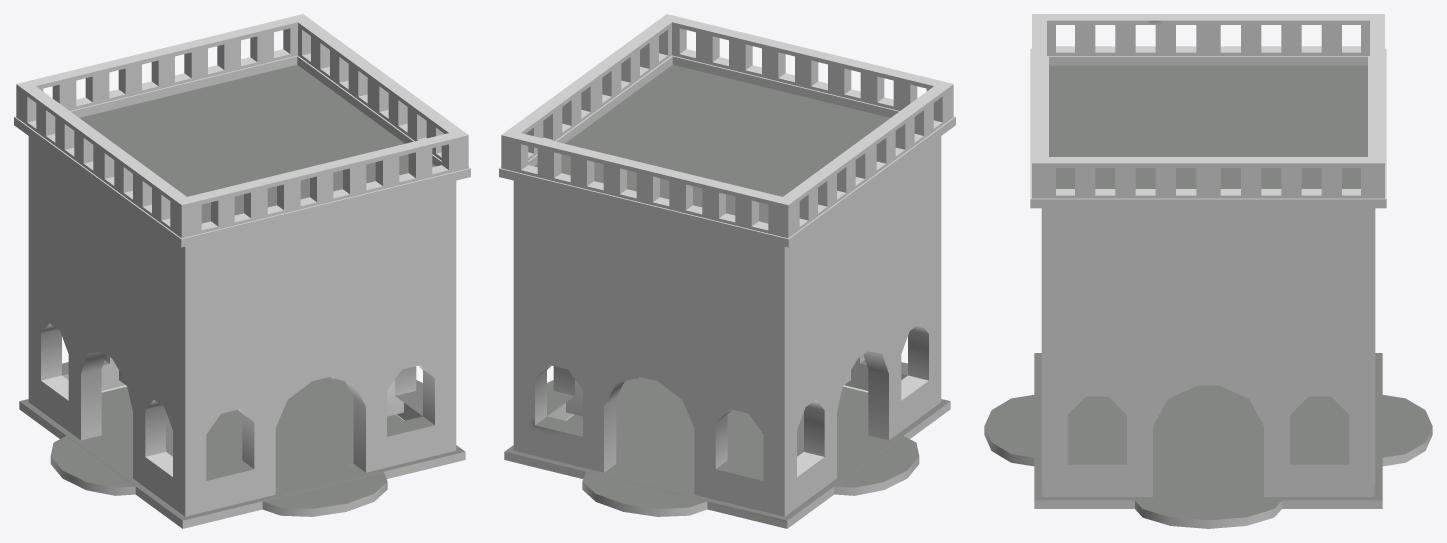
Rendered from Panggung Krapyak.fbx.
The picture shows the model from 3 angles, left to right: view 1: azimuth 30°, elevation 25°; view 2: azimuth 150°, elevation 25°; view 3: azimuth 270°, elevation 25°; orthographic projection. The views are drawn at different scales.
Parts seen in each view (by area): view 1: Panggung Krapyak; view 2: Panggung Krapyak; view 3: Panggung Krapyak.
Boxes of the visible parts, box(x1,y1,x2,y2) form: Panggung Krapyak: box(14, 14, 470, 528); Panggung Krapyak: box(499, 14, 955, 528); Panggung Krapyak: box(984, 14, 1432, 528).
Size of the model in its own units: 605 by 522 by 612.
Materials: 1 (1 with a texture image).
